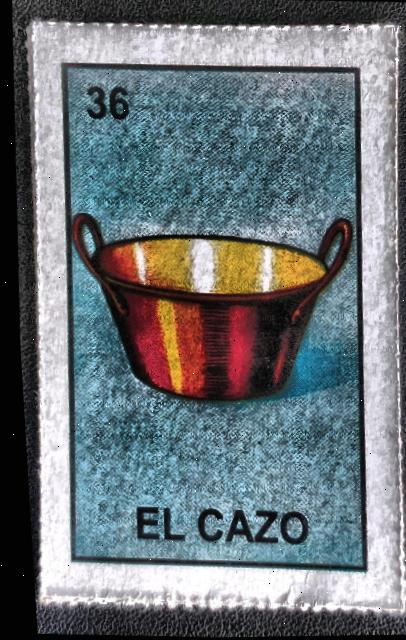El Cazo: (24, 30, 400, 600)
